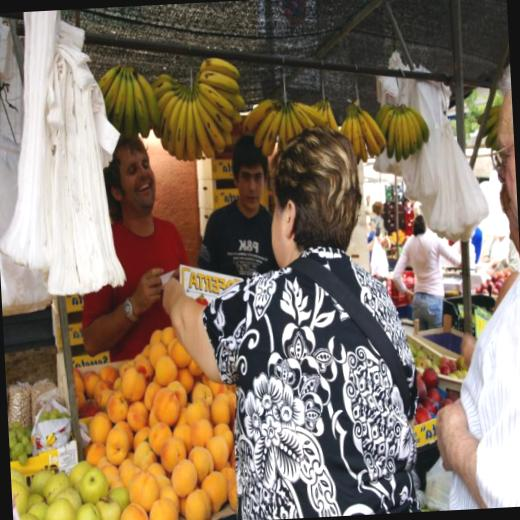Banana: (98, 44, 430, 176), (96, 52, 159, 137)
